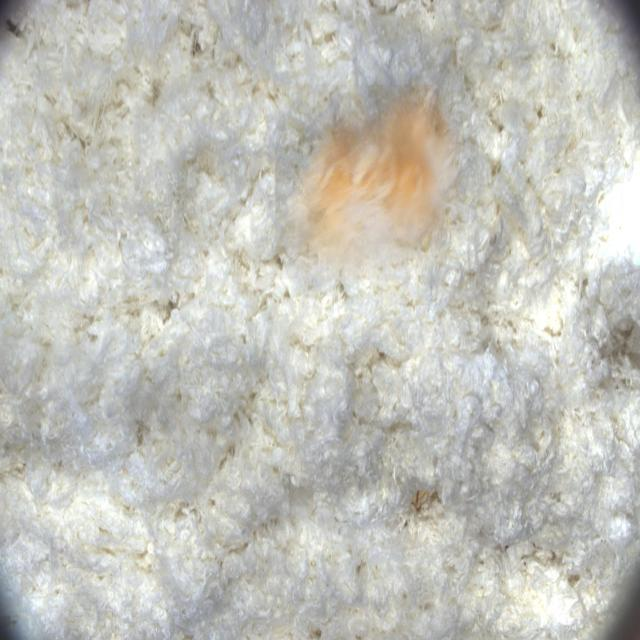dust: (275, 85, 462, 280)
